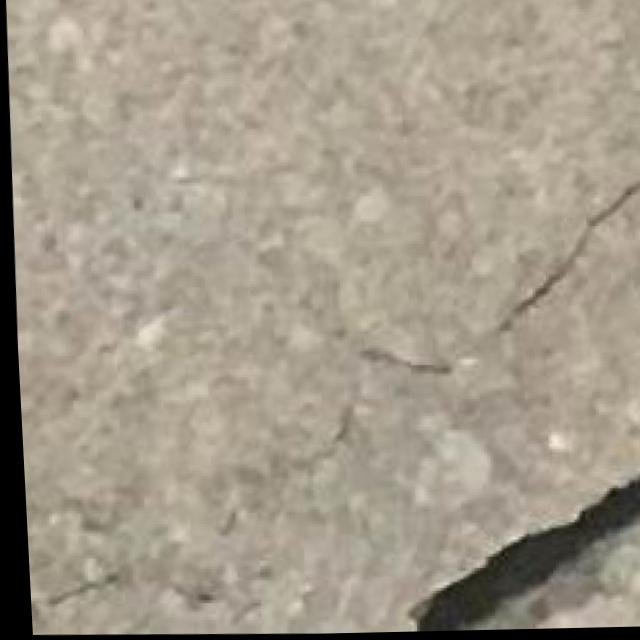Crack: (9, 164, 640, 634), (339, 434, 640, 634)
